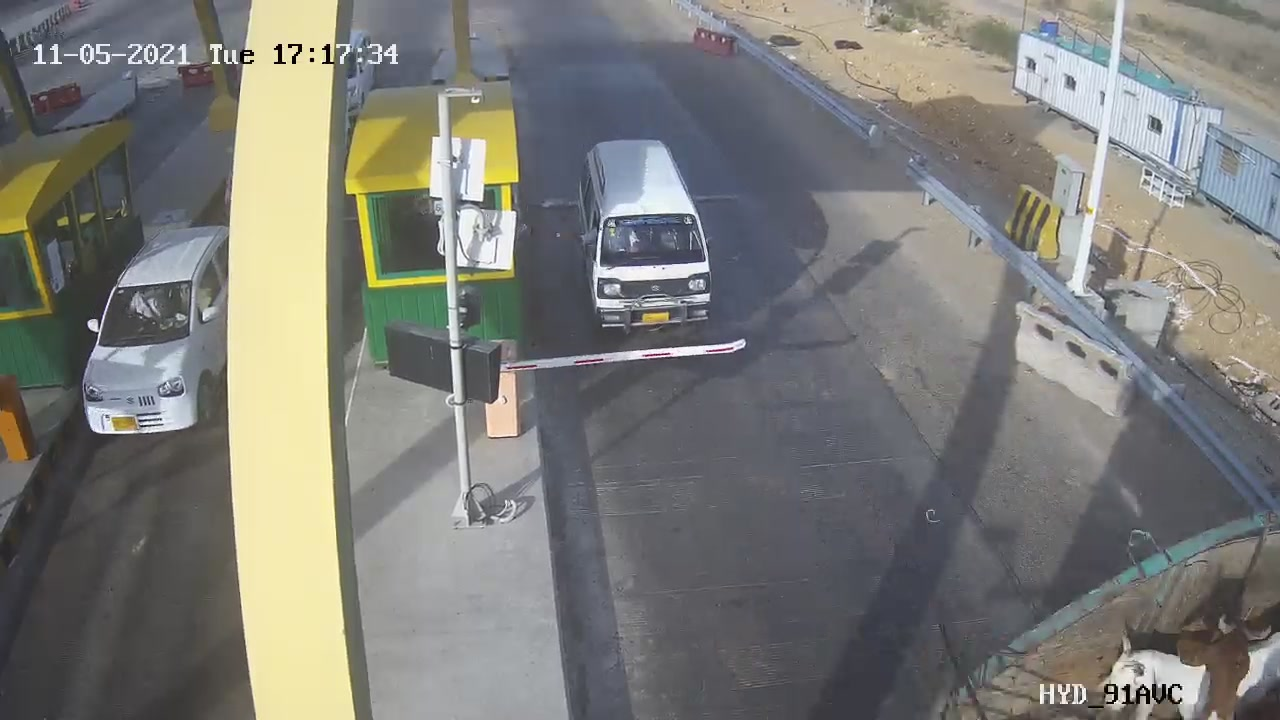F1: (556, 117, 737, 353)
